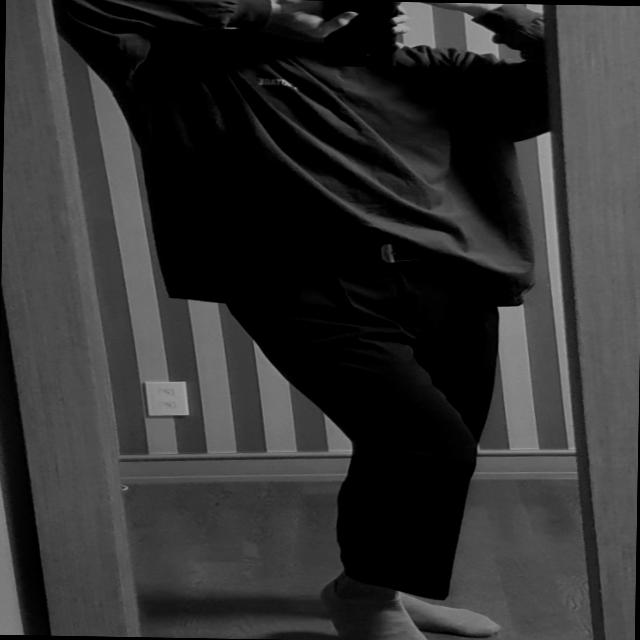longsleeve: (47, 0, 569, 308)
slacks: (208, 230, 500, 603)
